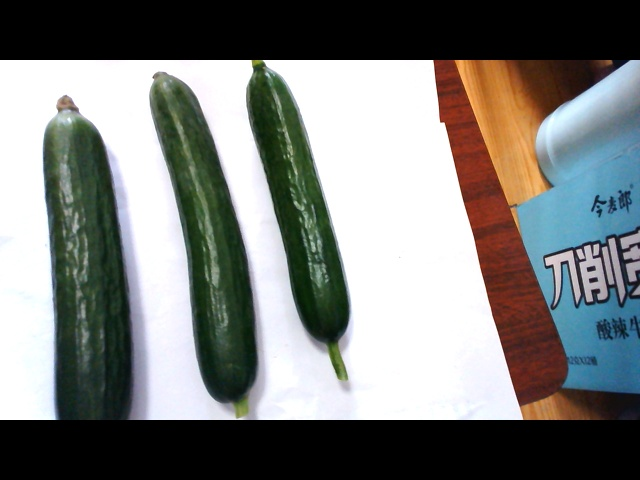cucumber: (246, 60, 377, 354), (148, 67, 254, 413), (27, 105, 140, 421)
